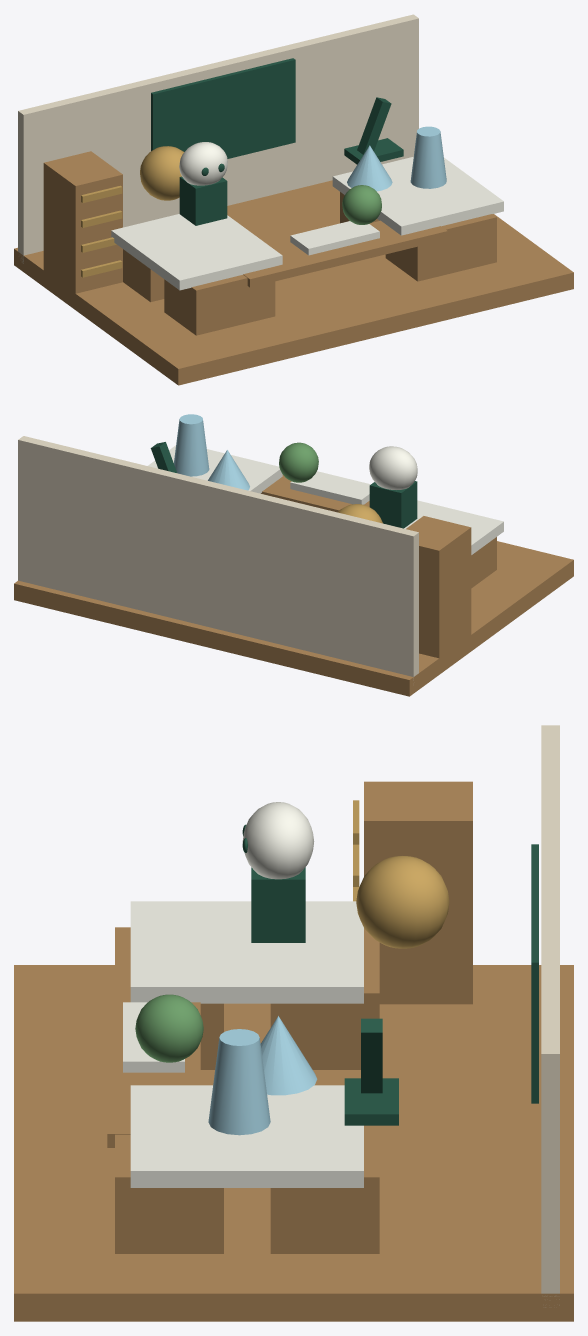
Rendered from learning.glb.
3 renders of one model, top to bottom at view 1: azimuth 30°, elevation 25°; view 2: azimuth 150°, elevation 25°; view 3: azimuth 270°, elevation 25°, orthographic. The views are drawn at different scales.
Bounding box in the file's own units: 5 × 1.93 × 3.6.
